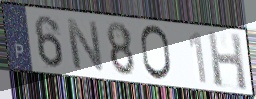1: (188, 31, 208, 84)
6: (33, 14, 65, 69)
8: (106, 22, 136, 78)
H: (206, 30, 249, 93)
N: (64, 16, 106, 74)
O: (139, 23, 174, 83)
